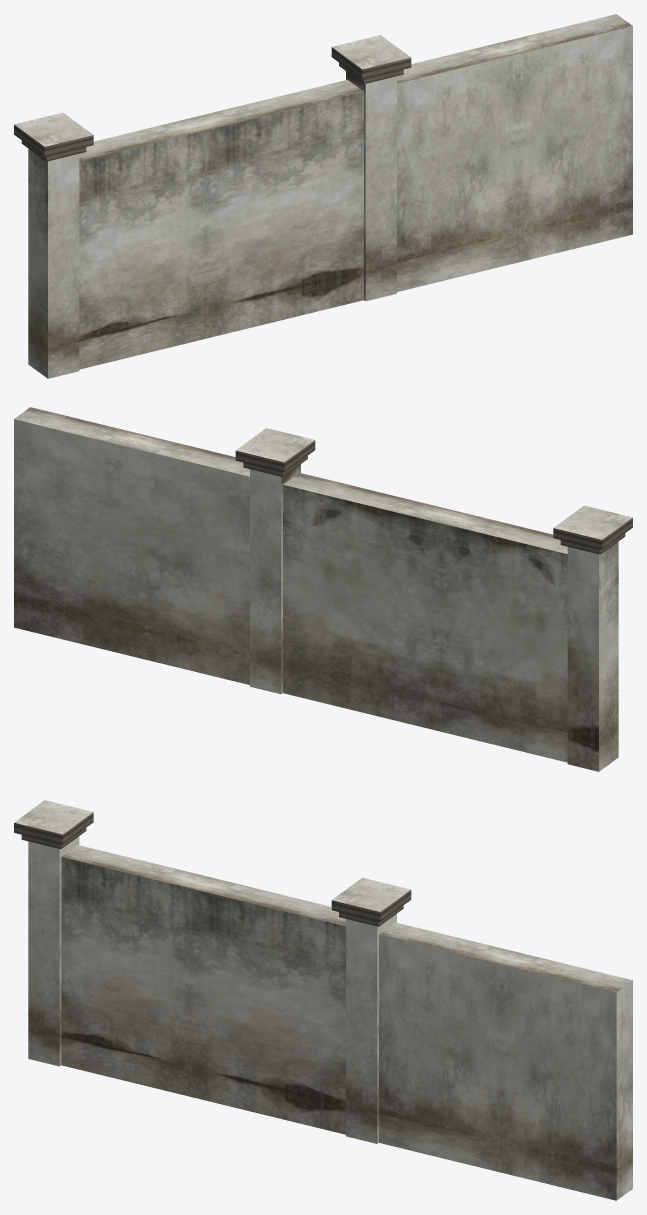
File: english_wall_100.fbx
3 renders of one model, top to bottom at view 1: azimuth 30°, elevation 25°; view 2: azimuth 150°, elevation 25°; view 3: azimuth 330°, elevation 25°, orthographic.
Visible parts, largest first — view 1: lod_high; view 2: lod_high; view 3: lod_high.
Part boxes in pixels (x1,y1,x2,y2): lod_high: (14, 14, 632, 378); lod_high: (14, 407, 632, 771); lod_high: (14, 800, 632, 1200).
Bounding box in the file's own units: 10465 × 3999 × 937.
1 material, 1 textured.
